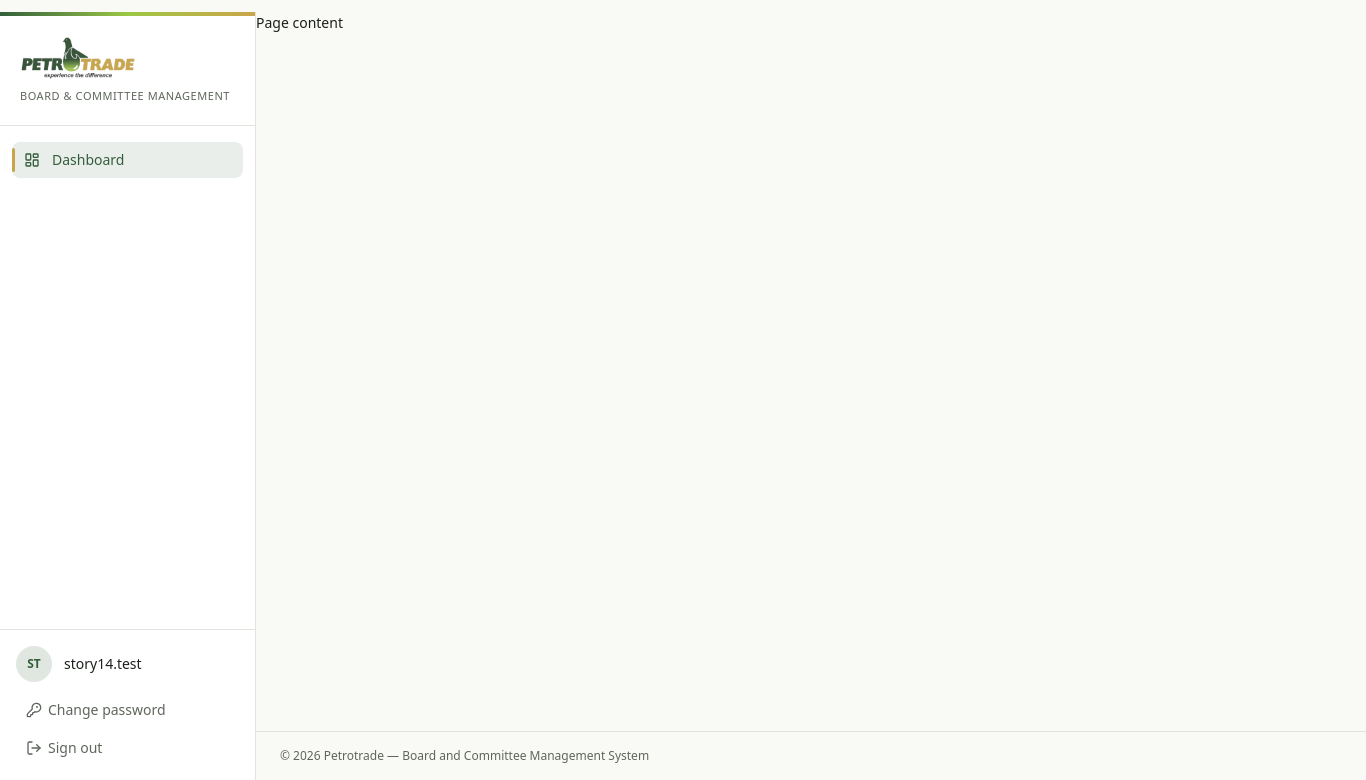
Scenario: AppShell › shows an inline error and re-enables both buttons if the change-password redirect rejects
Click the button "Change password".
click(128, 710)  # box [16,694,239,726]
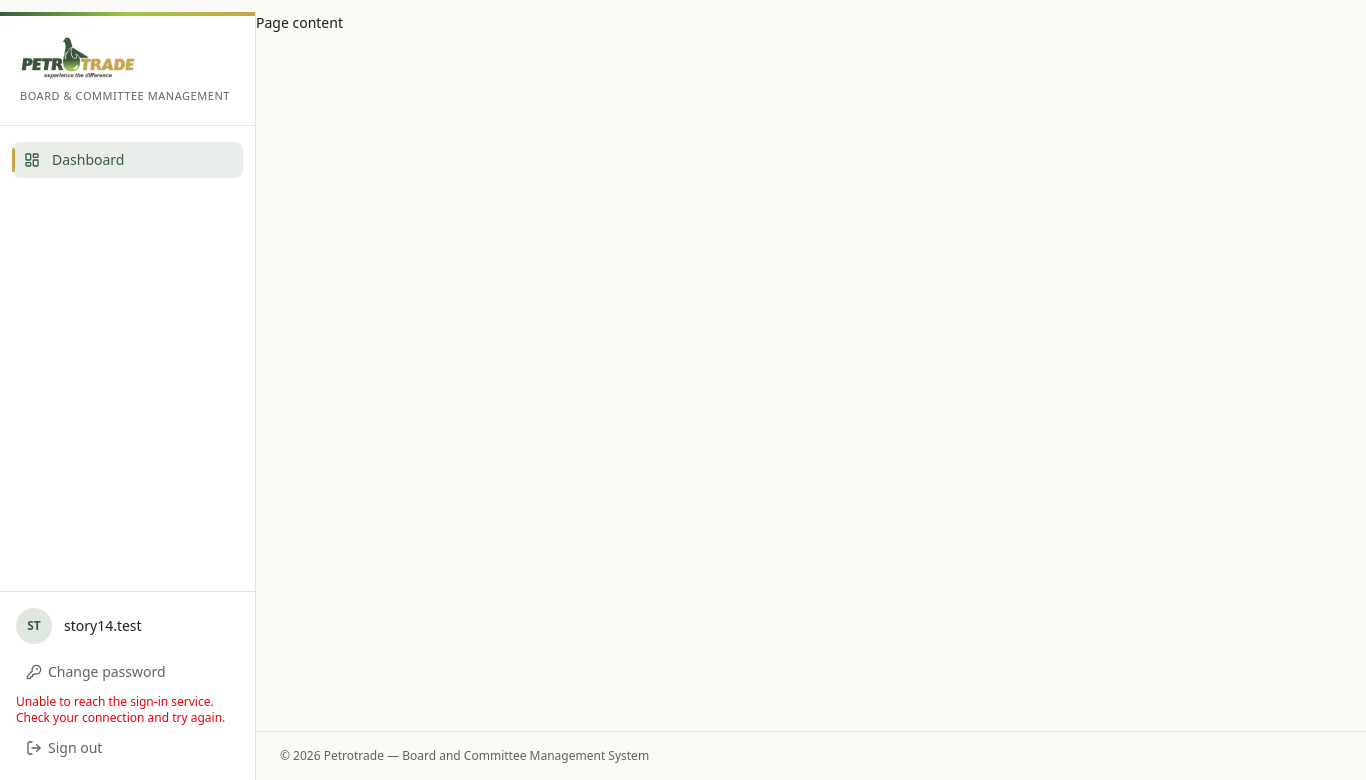
Expected: the button "Change password" is enabled, [16,656,239,688]
Expected: the message "Unable to reach the sign-in service. Check your connection and try again." is shown, [16,694,239,726]
